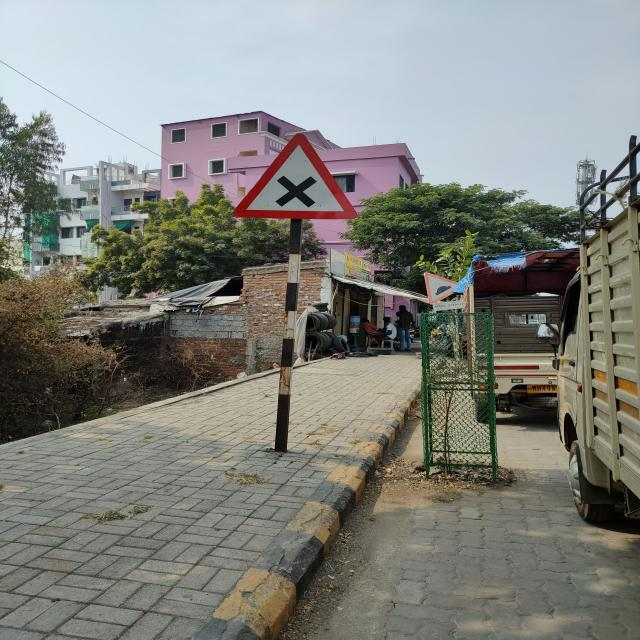CROSS_ROAD: (232, 133, 358, 228)
